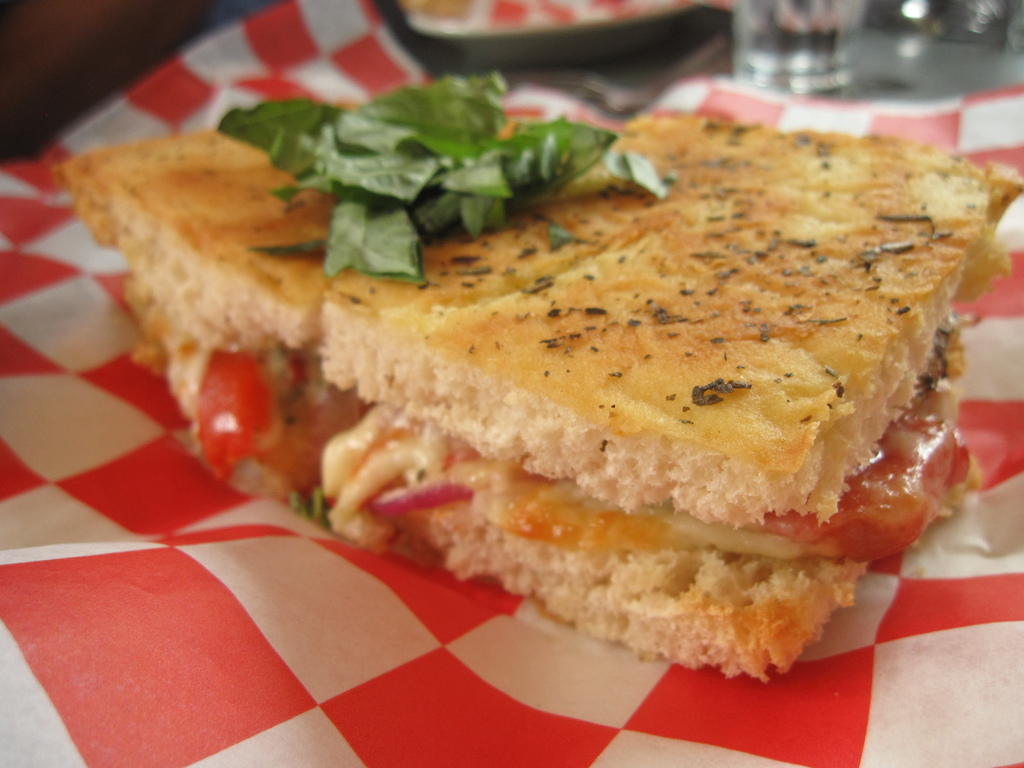sandwich: (57, 70, 1023, 680)
